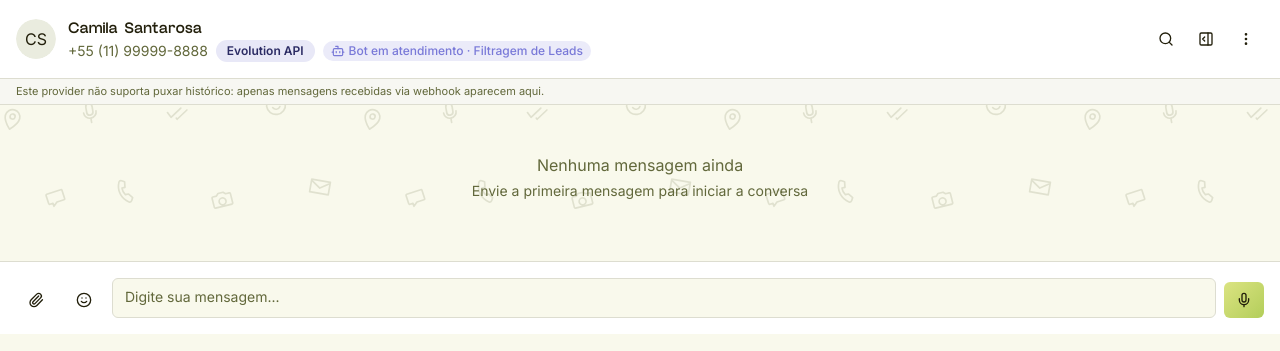
Scenario: ChatWindow — bot em atendimento › com sessão ativa: mostra o selo com o nome do bot e habilita o item do menu
The width and height of the screenshot is (1280, 351).
Expected: the element with test id "bot-session-badge" is shown, [323, 41, 591, 61]
Expected: the element with test id "bot-session-badge" shows "Bot em atendimento", [349, 43, 583, 58]
Click the button named "Mais opções" at (1246, 39), box [1228, 21, 1264, 57]
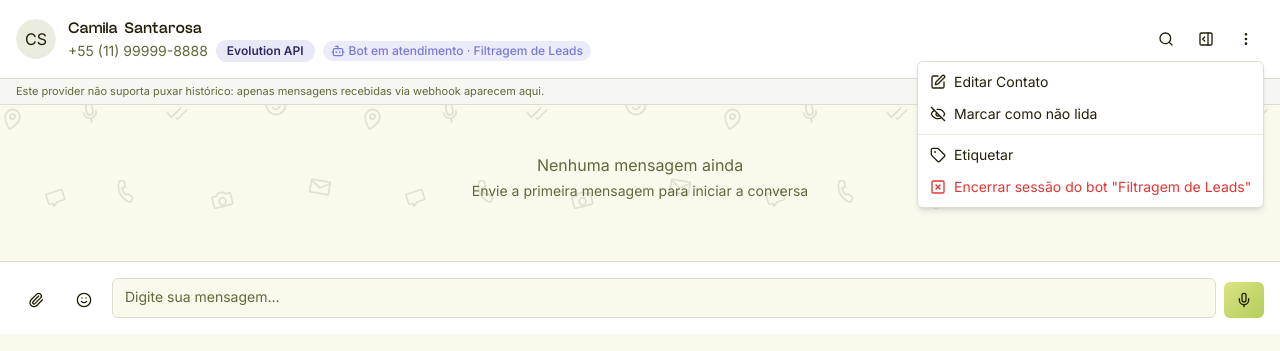
Expected: the menu item "Encerrar sessão do bot \"Filtragem de Leads\"" reads "Encerrar sessão do bot \"Filtragem de Leads\"", [930, 178, 1251, 195]
